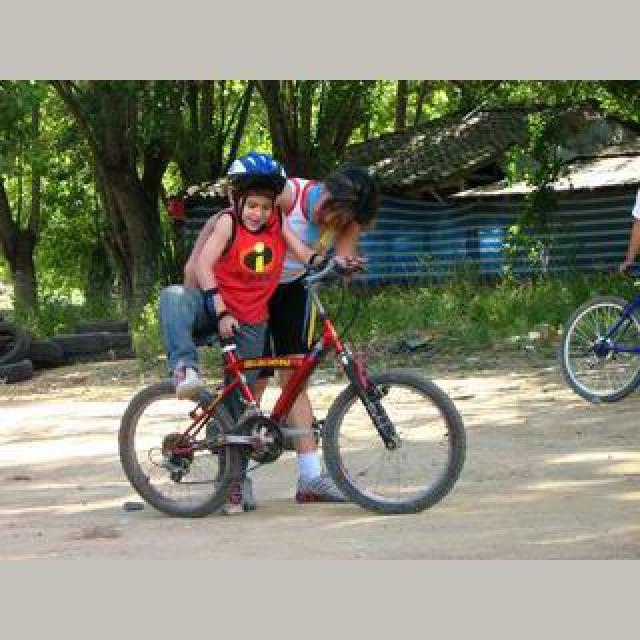MC-Bike: (176, 154, 382, 472), (620, 186, 640, 274)
Person: (118, 256, 466, 518)
